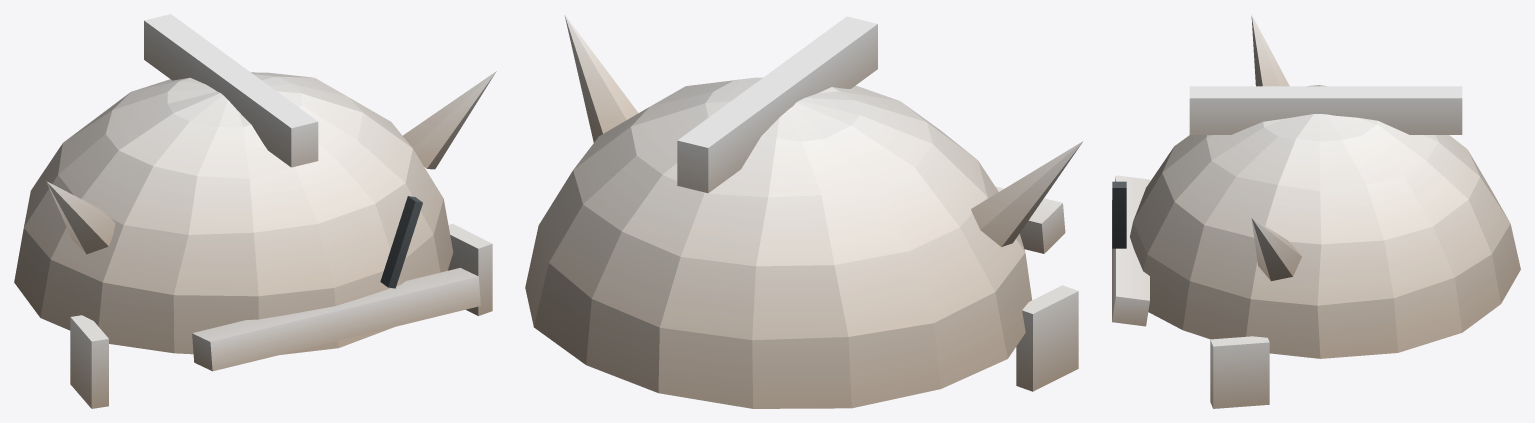
The model's file is bone_helm.glb.
3 views of the same model, side by side, from view 1: azimuth 30°, elevation 25°; view 2: azimuth 150°, elevation 25°; view 3: azimuth 270°, elevation 25° (orthographic). The views are drawn at different scales.
Parts seen in each view (by area): view 1: bone_helm; view 2: bone_helm; view 3: bone_helm.
Boxes of the visible parts, x1,y1,x2,y2 form: bone_helm: (14,14,496,408); bone_helm: (525,14,1083,408); bone_helm: (1112,14,1520,408).
Size of the model in its own units: 1.68 by 0.87 by 1.43.
1 material, 1 textured.
